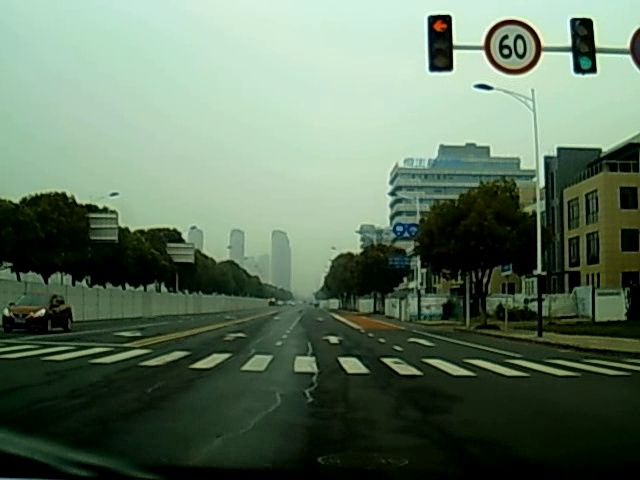Traffic_Light_go: (572, 22, 592, 75)
Traffic_Light_stop: (428, 19, 449, 68)
